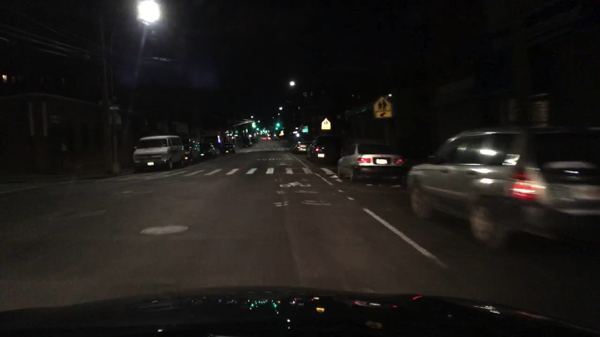car: (407, 125, 599, 249), (337, 140, 407, 184), (131, 133, 185, 173), (305, 134, 348, 164), (180, 137, 194, 164), (199, 142, 217, 161), (189, 139, 202, 162), (293, 139, 310, 154), (223, 142, 236, 154), (217, 146, 231, 154), (213, 147, 221, 155), (243, 139, 251, 147), (263, 137, 271, 141), (274, 137, 281, 141)
traffic light: (251, 122, 256, 128), (275, 123, 280, 127)
traffic sign: (372, 96, 393, 119), (320, 117, 331, 131)
